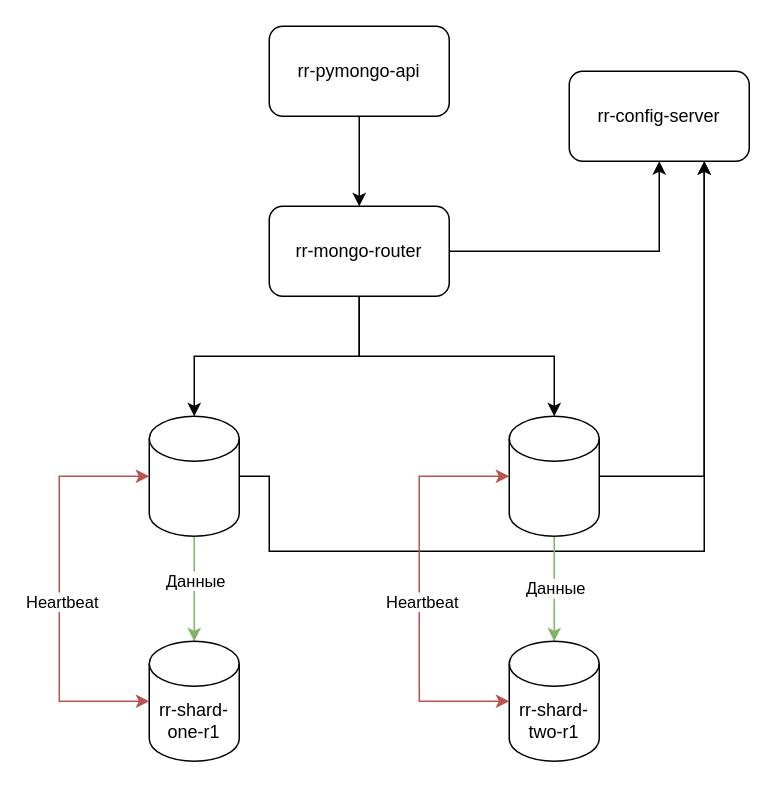
This 776x788 diagram has some shape labels left out. The shapes that lost their labels are listed below. From the top down, each one's centre as x and y in pixels, then its label:
pixel 193 475: rr-shard-one
pixel 553 475: rr-shard-two
